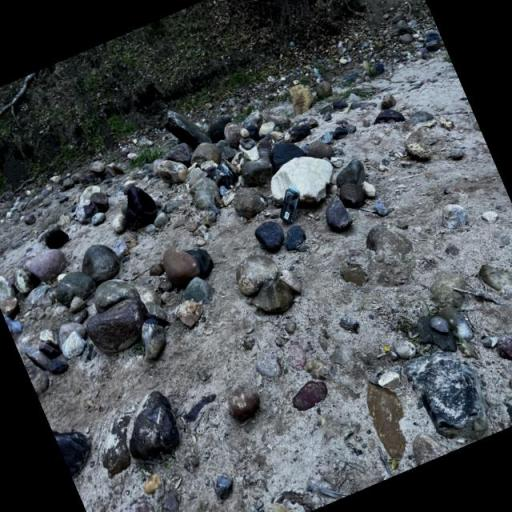bottle: (270, 181, 310, 227)
